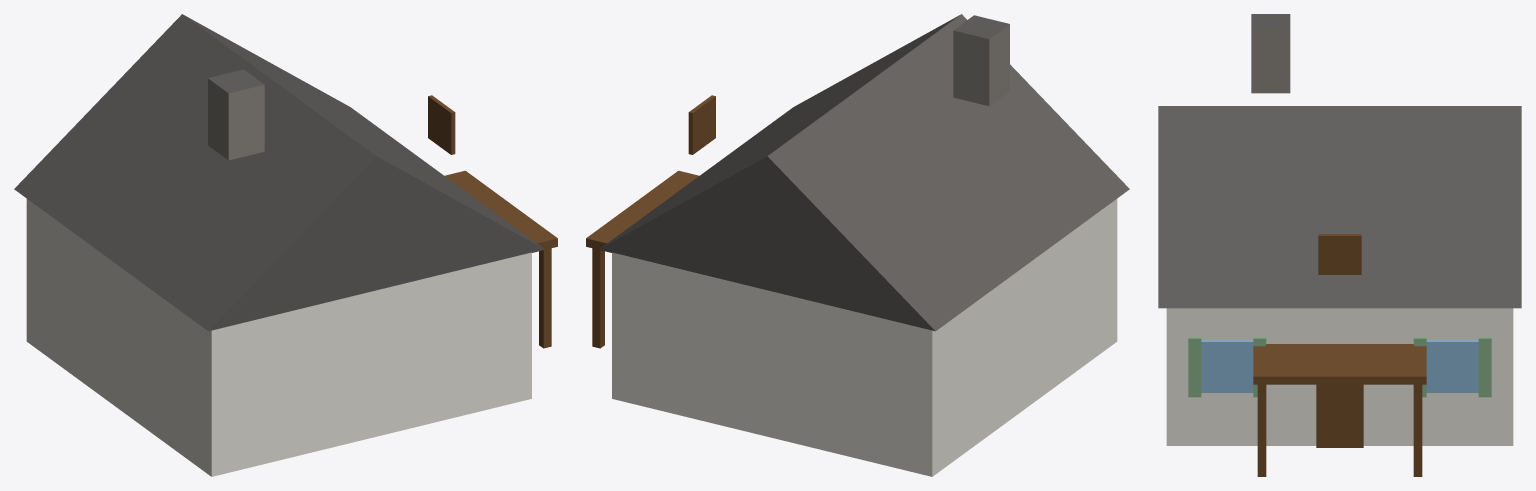
Rendered from casa_surena.obj.
3 views of the same model, side by side, from view 1: azimuth 30°, elevation 25°; view 2: azimuth 150°, elevation 25°; view 3: azimuth 270°, elevation 25° (orthographic). The views are drawn at different scales.
Parts seen in each view (by area): view 1: casa_surena; view 2: casa_surena; view 3: casa_surena.
Part boxes in pixels (x1,y1,x2,y2): casa_surena: [14, 14, 557, 476]; casa_surena: [586, 14, 1129, 476]; casa_surena: [1158, 14, 1521, 476].
Size of the model in its own units: 10 by 8 by 8.4.
